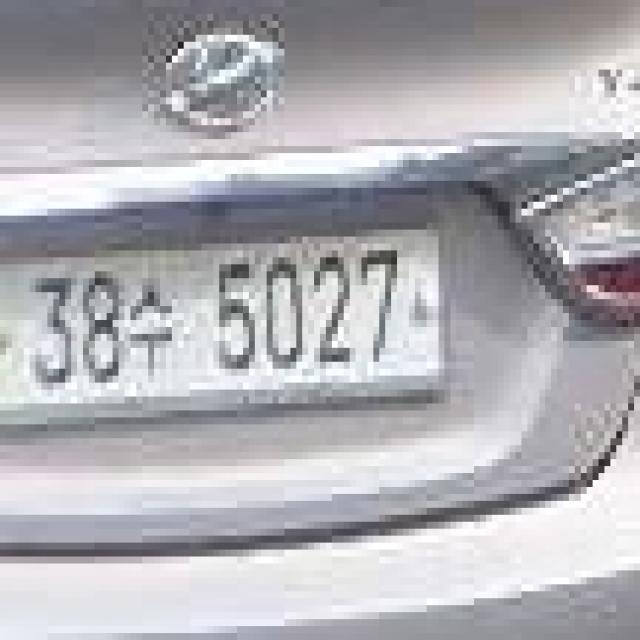0: (255, 257, 308, 369)
2: (308, 250, 356, 369)
3: (30, 271, 77, 390)
5: (207, 250, 255, 376)
7: (355, 250, 409, 362)
8: (77, 264, 119, 376)
license_plate: (6, 223, 450, 431)
su: (124, 278, 172, 383)
